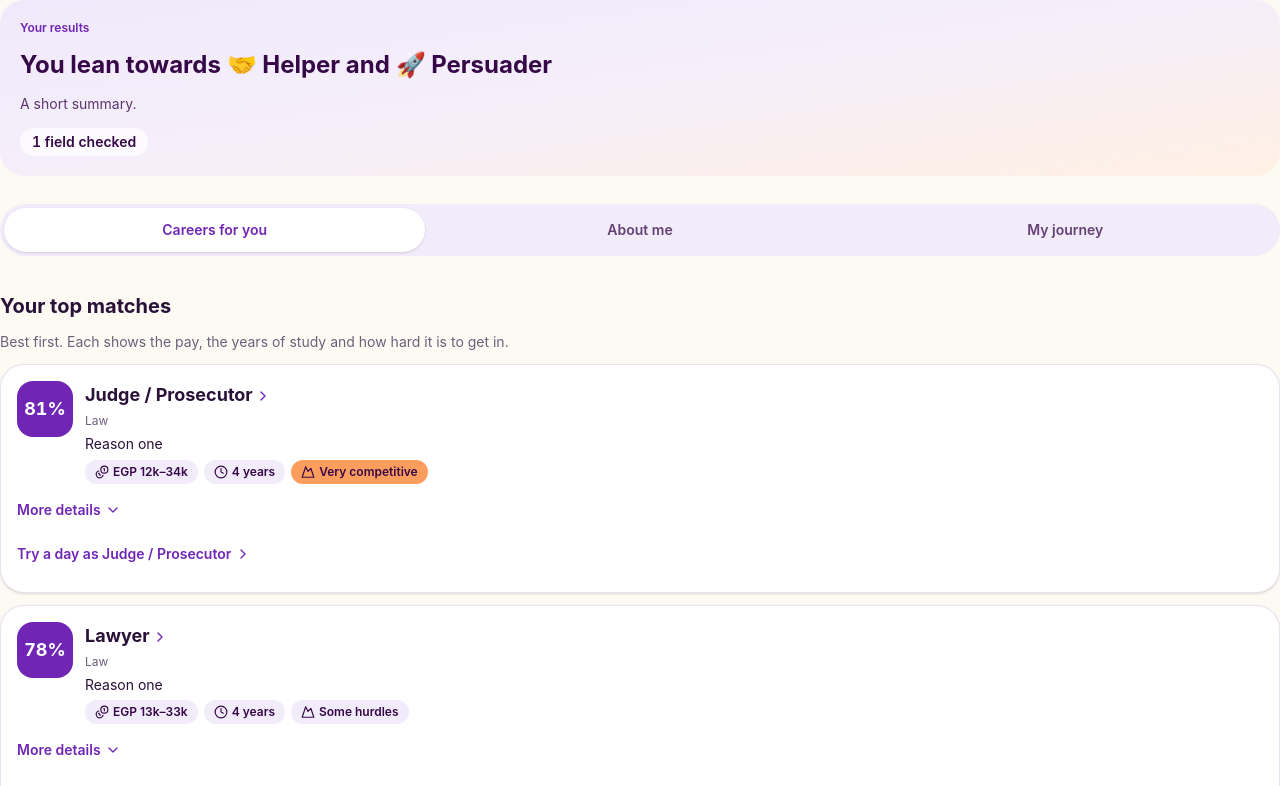
it: MyResults › offers the career quest for a checked field and lists the fields checked on the journey tab
The width and height of the screenshot is (1280, 786).
Click the tab "My journey". click: (1065, 230)
box: [855,208,1276,252]
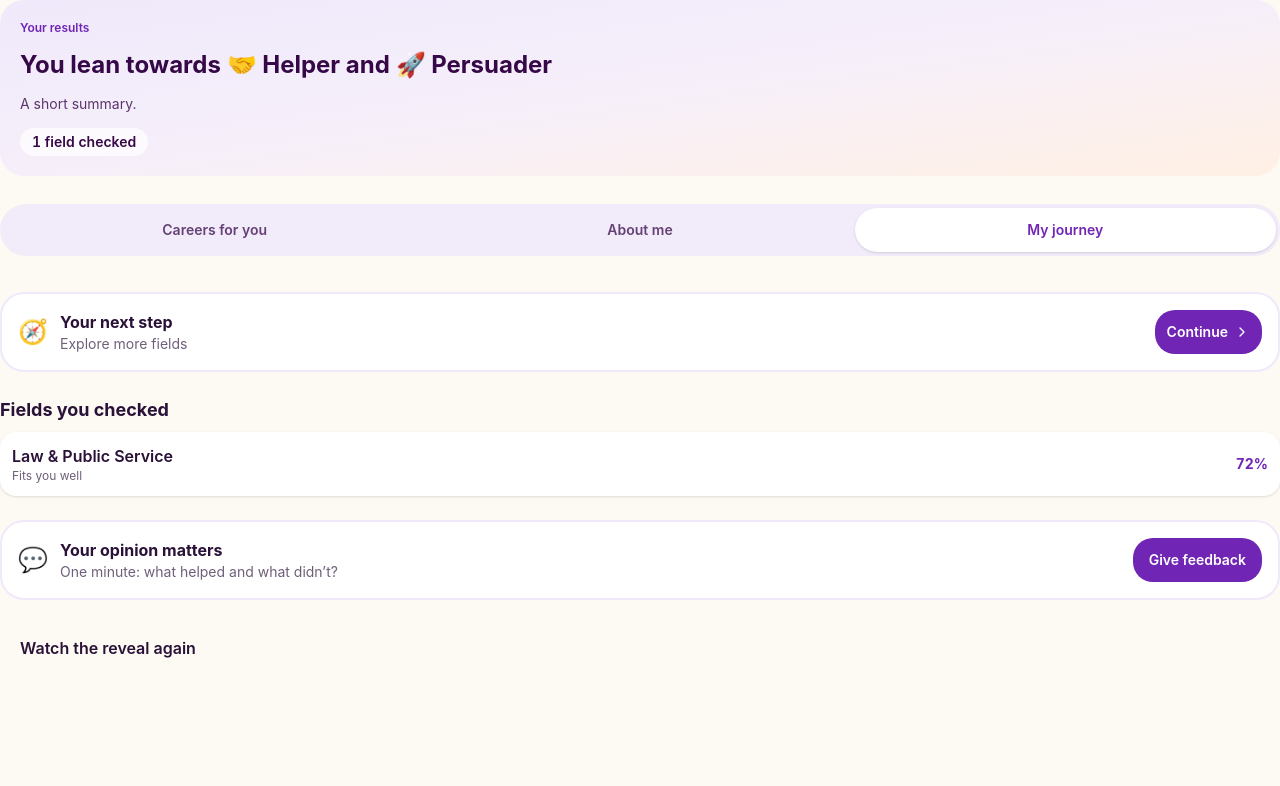
Now the text "72%" is shown, box [1236,454,1268,474]
